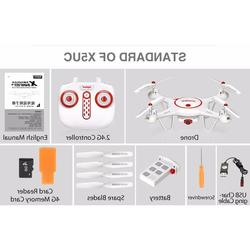drone: (130, 79, 243, 134)
